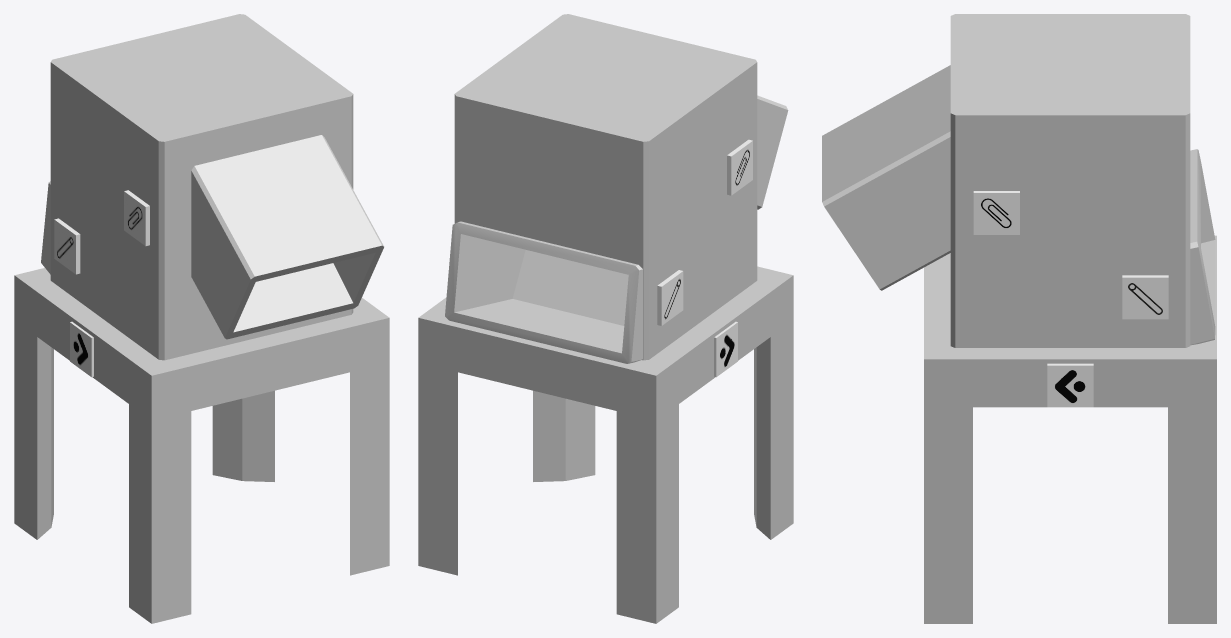
Rendered from ClipBender.fbx.
3 renders of one model, left to right at view 1: azimuth 30°, elevation 25°; view 2: azimuth 150°, elevation 25°; view 3: azimuth 270°, elevation 25°, orthographic. The views are drawn at different scales.
Parts seen in each view (by area): view 1: Cube, Cube.001, Plane, Plane.005, Plane.001, Cube.003; view 2: Cube, Cube.003, Cube.001, Plane, Plane.005, Plane.001; view 3: Cube, Cube.001, Cube.003, Plane.004, Plane.006, Plane.007.
Part boxes in pixels (box(x1,y1,x2,y2)): Cube: box(14, 14, 389, 623); Cube.001: box(191, 135, 383, 339); Plane: box(54, 218, 80, 274); Plane.005: box(124, 190, 149, 246); Plane.001: box(70, 321, 93, 377); Cube.003: box(41, 181, 50, 274); Cube: box(418, 14, 793, 623); Cube.003: box(445, 221, 642, 363); Cube.001: box(757, 95, 788, 209); Plane: box(657, 270, 683, 325); Plane.005: box(727, 139, 752, 195); Plane.001: box(714, 321, 737, 377); Cube: box(924, 14, 1216, 623); Cube.001: box(822, 65, 950, 290); Cube.003: box(1190, 149, 1215, 345); Plane.004: box(1047, 363, 1093, 407); Plane.006: box(1122, 275, 1168, 319); Plane.007: box(973, 191, 1019, 234).
Bounding box in the file's own units: 205 × 375 × 270.
